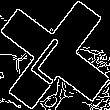L_NE: (27, 25, 83, 85)
